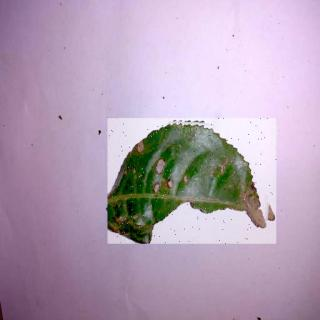Anthracnose: (109, 119, 278, 245)
